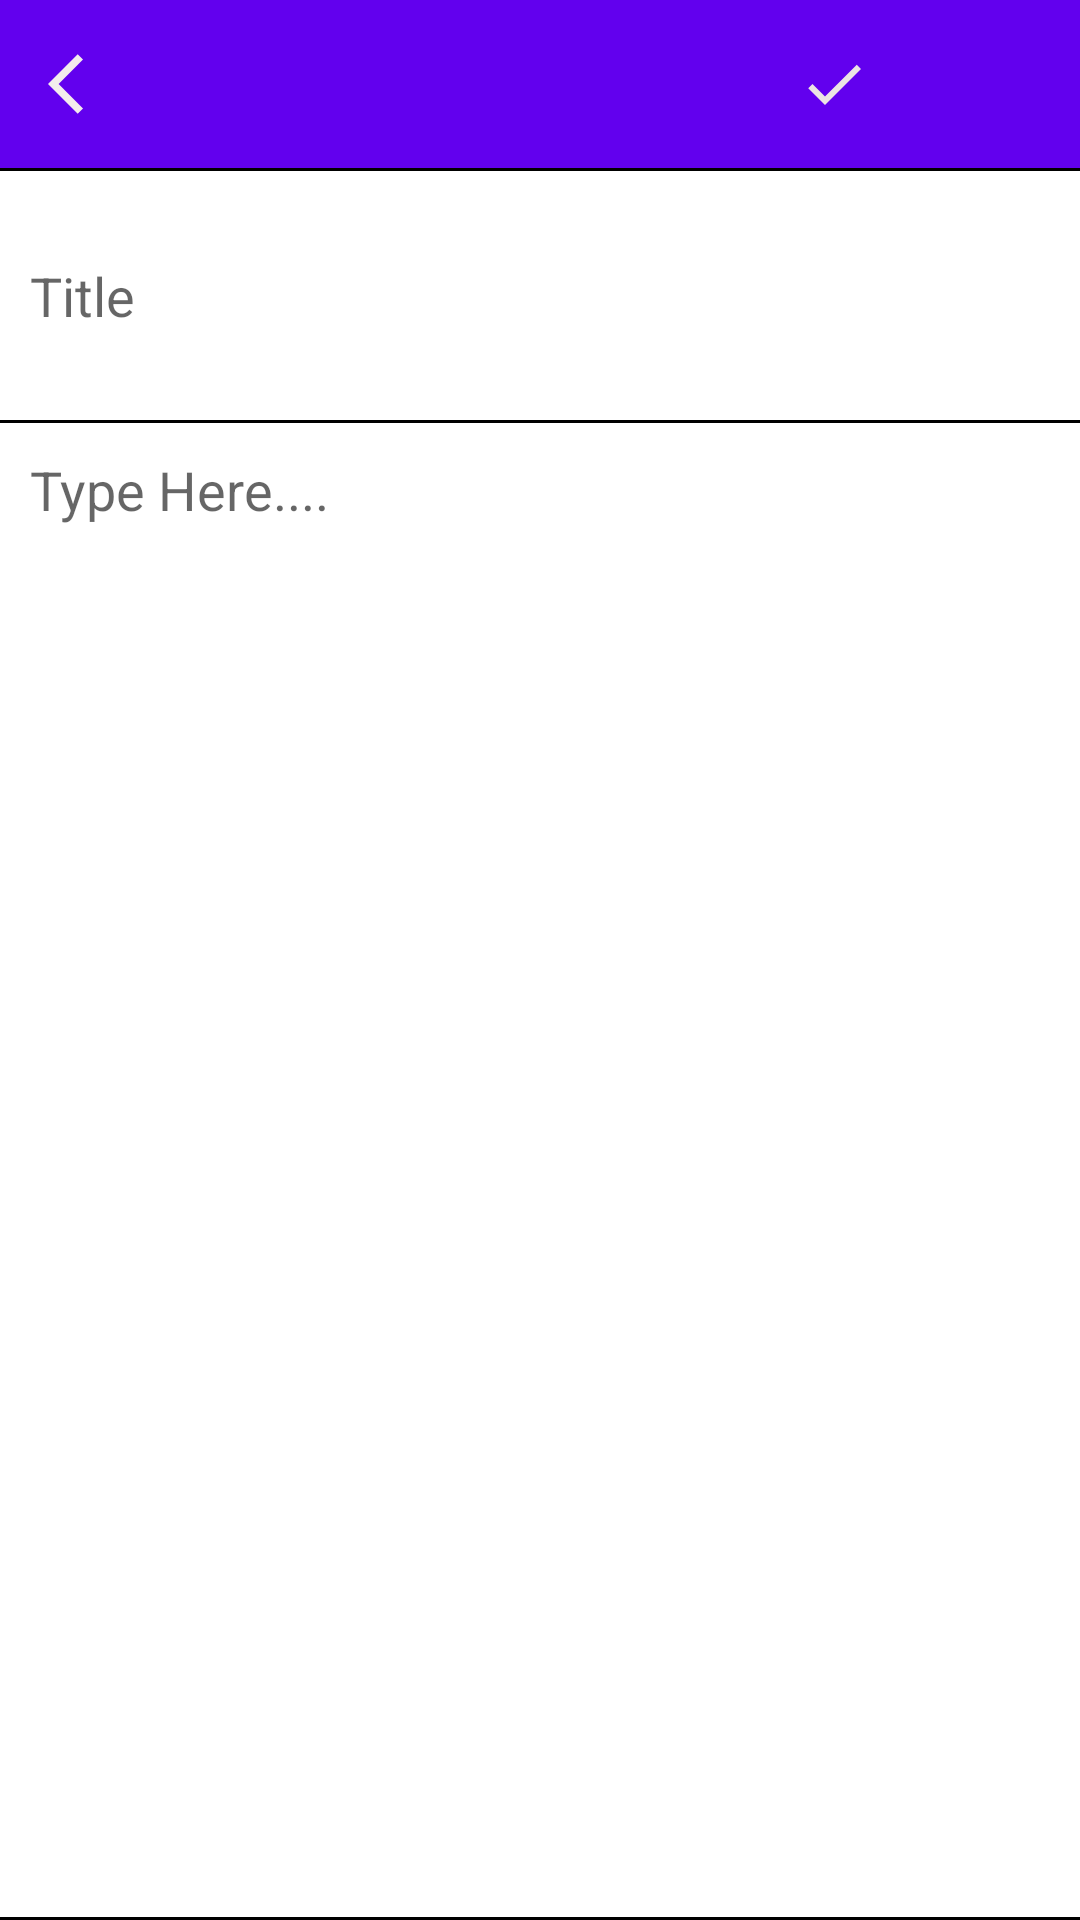

Screen size 1080*1920. Icon name, then its box in pixels as (left=x1, top=y1, right=x2, bottom=y2):
back: (left=48, top=54, right=83, bottom=114)
check: (left=808, top=65, right=861, bottom=105)
